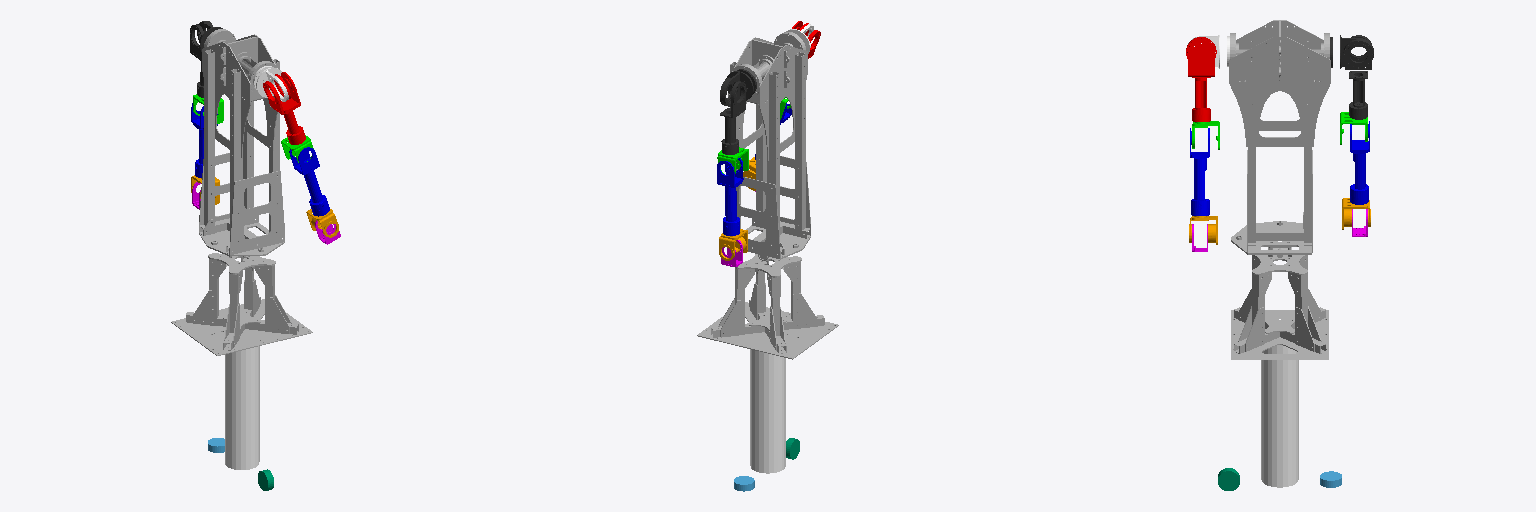
The robot description file, URDF, robot "neurobotboth":
<robot
  name="neurobotboth">
  <link 
    name="base_footprint">
    <visual>
    <origin rpy="0 0 0" xyz="0 0 0"/>
    <geometry>
       <box size="0.05 0.05 0.001"/>
    </geometry>
    <material name="TransparentGreen"/>
    </visual>
  </link>
  <link
    name="base_leg">
    <inertial>
      <origin
        xyz="0 -1.11022302462516E-16 0.2335"
        rpy="0 0 0" />
      <mass
        value="4.43804940190996" />
      <inertia
        ixx="0.0840137545279562"
        ixy="0"
        ixz="-5.53246823430371E-34"
        iyy="0.0840137545279562"
        iyz="1.8876145408187E-34"
        izz="0.00671254972038881" />
    </inertial>
    <visual>
      <origin
        xyz="0 0 0"
        rpy="0 0 0" />
      <geometry>
        <mesh
          filename="package://neurobotboth/meshes/base_leg.stl" />
      </geometry>
      <material
        name="">
        <color
          rgba="1 1 1 1" />
      </material>
    </visual>
    <collision>
      <origin
        xyz="0 0 0"
        rpy="0 0 0" />
      <geometry>
        <mesh
          filename="package://neurobotboth/meshes/base_leg.stl" />
      </geometry>
    </collision>
  </link>
  <joint name="joint_footprint" type="fixed">
    <origin rpy="0 0 0" xyz="0 0 0"/>
    <parent link="base_footprint"/>
    <child link="base_leg"/>
  </joint>
  <link
    name="base_link">
    <inertial>
      <origin
        xyz="-0.00215359092121389 -0.000793224055706809 0.502026253045581"
        rpy="0 0 0" />
      <mass
        value="2.59431720777893" />
      <inertia
        ixx="0.3523313561318"
        ixy="0.000539614748826474"
        ixz="0.00816862739544269"
        iyy="0.351242034325023"
        iyz="-0.00125197561514708"
        izz="0.0345525607669928" />
    </inertial>
    <visual>
      <origin
        xyz="0 0 0"
        rpy="0 0 0" />
      <geometry>
        <mesh
          filename="package://neurobotboth/meshes/base_link.stl" />
      </geometry>
      <material
        name="">
        <color
          rgba="0.752941176470588 0.752941176470588 0.752941176470588 1" />
      </material>
    </visual>
    <collision>
      <origin
        xyz="0 0 0"
        rpy="0 0 0" />
      <geometry>
        <mesh
          filename="package://neurobotboth/meshes/base_link.stl" />
      </geometry>
    </collision>
  </link>
  <joint
    name="joint_base"
    type="fixed">
    <origin
      xyz="-0.0056343 4.8341E-05 0.467"
      rpy="0 0 0" />
    <parent
      link="base_leg" />
    <child
      link="base_link" />
    <axis
      xyz="0 0 0" />
  </joint>
  <link
    name="right_arm_link_0">
  </link>
  <joint
    name="right_arm_joint_0"
    type="fixed">
    <origin
      xyz="0.0056343 -0.14605 0.919"
      rpy="1.5708 0.30972 -3.1416" />
    <parent
      link="base_link" />
    <child
      link="right_arm_link_0" />
    <axis
      xyz="0 0 0" />
  </joint>
  <link
    name="right_arm_link_1">
    <inertial>
      <origin
        xyz="-0.000327200298236963 -1.66533453693773E-16 -0.0359628362808107"
        rpy="0 0 0" />
      <mass
        value="0.107035798022397" />
      <inertia
        ixx="0.000188785968780782"
        ixy="-7.68864379368039E-21"
        ixz="-1.68236451485131E-06"
        iyy="0.000157075498484323"
        iyz="-2.07212052166984E-19"
        izz="0.000125761271549389" />
    </inertial>
    <visual>
      <origin
        xyz="0 0 0"
        rpy="0 0 0" />
      <geometry>
        <mesh
          filename="package://neurobotboth/meshes/right_arm_link_1.stl" />
      </geometry>
      <material
        name="">
        <color
          rgba="1 1 1 1" />
      </material>
    </visual>
    <collision>
      <origin
        xyz="0 0 0"
        rpy="0 0 0" />
      <geometry>
        <mesh
          filename="package://neurobotboth/meshes/right_arm_link_1.stl" />
      </geometry>
    </collision>
  </link>
  <joint
    name="right_arm_joint_1"
    type="fixed">
    <origin
      xyz="0 0 -0.001"
      rpy="0 0 0" />
    <parent
      link="right_arm_link_0" />
    <child
      link="right_arm_link_1" />
    <axis
      xyz="0 0 1" />
    <limit
      lower="-1.57"
      upper="1.57"
      effort="2"
      velocity="0.5" />
  </joint>
  <link
    name="right_arm_link_2">
    <inertial>
      <origin
        xyz="0.0650617938997774 -3.74272418668387E-06 0.00884791201131907"
        rpy="0 0 0" />
      <mass
        value="0.255566385563294" />
      <inertia
        ixx="0.00024551385027943"
        ixy="1.05634262378188E-07"
        ixz="1.70511900676993E-05"
        iyy="0.00127080560186476"
        iyz="1.1028518537721E-09"
        izz="0.00126072659055335" />
    </inertial>
    <visual>
      <origin
        xyz="0 0 0"
        rpy="0 0 0" />
      <geometry>
        <mesh
          filename="package://neurobotboth/meshes/right_arm_link_2.stl" />
      </geometry>
      <material
        name="">
        <color
          rgba="1 0 0 1" />
      </material>
    </visual>
    <collision>
      <origin
        xyz="0 0 0"
        rpy="0 0 0" />
      <geometry>
        <mesh
          filename="package://neurobotboth/meshes/right_arm_link_2.stl" />
      </geometry>
    </collision>
  </link>
  <joint
    name="right_arm_joint_2"
    type="fixed">
    <origin
      xyz="0.004 0 -0.084"
      rpy="1.5708 -2.1829E-14 -1.5708" />
    <parent
      link="right_arm_link_1" />
    <child
      link="right_arm_link_2" />
    <axis
      xyz="0 0 -1" />
    <limit
      lower="-0.78"
      upper="0.78"
      effort="2"
      velocity="0.5" />
  </joint>
  <link
    name="right_arm_link_3">
    <inertial>
      <origin
        xyz="0.0153020226123044 -5.81423797996194E-13 -0.0262980249667745"
        rpy="0 0 0" />
      <mass
        value="0.0789715110556532" />
      <inertia
        ixx="7.19666232277633E-05"
        ixy="1.68404549474258E-15"
        ixz="1.68863370887187E-05"
        iyy="0.000116283270534729"
        iyz="-6.41649606133214E-16"
        izz="0.000104168336512131" />
    </inertial>
    <visual>
      <origin
        xyz="0 0 0"
        rpy="0 0 0" />
      <geometry>
        <mesh
          filename="package://neurobotboth/meshes/right_arm_link_3.stl" />
      </geometry>
      <material
        name="">
        <color
          rgba="0 1 0.00392156862745098 1" />
      </material>
    </visual>
    <collision>
      <origin
        xyz="0 0 0"
        rpy="0 0 0" />
      <geometry>
        <mesh
          filename="package://neurobotboth/meshes/right_arm_link_3.stl" />
      </geometry>
    </collision>
  </link>
  <joint
    name="right_arm_joint_3"
    type="fixed">
    <origin
      xyz="0.204 0 0.01"
      rpy="-1.5708 3.8018E-11 1.5708" />
    <parent
      link="right_arm_link_2" />
    <child
      link="right_arm_link_3" />
    <axis
      xyz="0.0048522 0 0.99999" />
    <limit
      lower="-3.14"
      upper="3.14"
      effort="2"
      velocity="0.5" />
  </joint>
  <link
    name="right_arm_link_4">
    <inertial>
      <origin
        xyz="0.110286427763568 -2.47783699109938E-05 0.0247402908898989"
        rpy="0 0 0" />
      <mass
        value="0.1635924370838" />
      <inertia
        ixx="9.17176019284682E-05"
        ixy="3.47472024491752E-07"
        ixz="1.44062358020974E-05"
        iyy="0.000940638096634904"
        iyz="-9.43821184593951E-09"
        izz="0.000935522761596194" />
    </inertial>
    <visual>
      <origin
        xyz="0 0 0"
        rpy="0 0 0" />
      <geometry>
        <mesh
          filename="package://neurobotboth/meshes/right_arm_link_4.stl" />
      </geometry>
      <material
        name="">
        <color
          rgba="0 0 1 1" />
      </material>
    </visual>
    <collision>
      <origin
        xyz="0 0 0"
        rpy="0 0 0" />
      <geometry>
        <mesh
          filename="package://neurobotboth/meshes/right_arm_link_4.stl" />
      </geometry>
    </collision>
  </link>
  <joint
    name="right_arm_joint_4"
    type="fixed">
    <origin
      xyz="0.02 0 -0.051"
      rpy="3.1416 1.5708 0" />
    <parent
      link="right_arm_link_3" />
    <child
      link="right_arm_link_4" />
    <axis
      xyz="0 0 -1" />
    <limit
      lower="-1.57"
      upper="1.57"
      effort="2"
      velocity="0.5" />
  </joint>
  <link
    name="right_arm_link_5">
    <inertial>
      <origin
        xyz="-2.02615701994091E-15 0.0169801683752191 -0.0349097801090397"
        rpy="0 0 0" />
      <mass
        value="0.0980468372542702" />
      <inertia
        ixx="0.000146622459303631"
        ixy="1.29985969140156E-08"
        ixz="-5.66526182695182E-11"
        iyy="9.25528351448713E-05"
        iyz="2.22452497831366E-05"
        izz="0.000108961772352676" />
    </inertial>
    <visual>
      <origin
        xyz="0 0 0"
        rpy="0 0 0" />
      <geometry>
        <mesh
          filename="package://neurobotboth/meshes/right_arm_link_5.stl" />
      </geometry>
      <material
        name="">
        <color
          rgba="1 0.666666666666667 0 1" />
      </material>
    </visual>
    <collision>
      <origin
        xyz="0 0 0"
        rpy="0 0 0" />
      <geometry>
        <mesh
          filename="package://neurobotboth/meshes/right_arm_link_5.stl" />
      </geometry>
    </collision>
  </link>
  <joint
    name="right_arm_joint_5"
    type="fixed">
    <origin
      xyz="0.2275 0 0.022412"
      rpy="-1.5664 -3.7816E-11 1.5708" />
    <parent
      link="right_arm_link_4" />
    <child
      link="right_arm_link_5" />
    <axis
      xyz="0 0 1" />
    <limit
      lower="-3.14"
      upper="3.14"
      effort="2"
      velocity="0.5" />
  </joint>
  <link
    name="right_arm_link_6">
    <inertial>
      <origin
        xyz="0.0287664746286838 -7.08211267408387E-13 0.0186548764386218"
        rpy="0 0 0" />
      <mass
        value="0.0342933650278287" />
      <inertia
        ixx="2.12655468606329E-05"
        ixy="-2.18723494617966E-17"
        ixz="5.76746741176577E-07"
        iyy="2.81264708549031E-05"
        iyz="8.96065566988484E-17"
        izz="2.57654425067357E-05" />
    </inertial>
    <visual>
      <origin
        xyz="0 0 0"
        rpy="0 0 0" />
      <geometry>
        <mesh
          filename="package://neurobotboth/meshes/right_arm_link_6.stl" />
      </geometry>
      <material
        name="">
        <color
          rgba="1 0 1 1" />
      </material>
    </visual>
    <collision>
      <origin
        xyz="0 0 0"
        rpy="0 0 0" />
      <geometry>
        <mesh
          filename="package://neurobotboth/meshes/right_arm_link_6.stl" />
      </geometry>
    </collision>
  </link>
  <joint
    name="right_arm_joint_6"
    type="fixed">
    <origin
      xyz="0 0.017758 -0.055578"
      rpy="-5.1124E-11 1.5664 -1.5708" />
    <parent
      link="right_arm_link_5" />
    <child
      link="right_arm_link_6" />
    <axis
      xyz="0 0 -1" />
    <limit
      lower="-1.57"
      upper="1.57"
      effort="2"
      velocity="0.5" />
  </joint>
  <link
    name="left_arm_link_0">
  </link>
  <joint
    name="left_arm_joint_0"
    type="fixed">
    <origin
      xyz="0.0056343 0.14595 0.917"
      rpy="1.5734 -0.018325 3.0023" />
    <parent
      link="base_link" />
    <child
      link="left_arm_link_0" />
    <axis
      xyz="0 0 0" />
  </joint>
  <link
    name="left_arm_Link_1">
    <inertial>
      <origin
        xyz="0.00466685580630952 -1.11022302462516E-15 0.0356602455160837"
        rpy="0 0 0" />
      <mass
        value="0.107035798022396" />
      <inertia
        ixx="0.000188034571467992"
        ixy="-1.1808830424807E-20"
        ixz="-7.04431263850407E-06"
        iyy="0.000157075498483852"
        iyz="-1.18319914819585E-19"
        izz="0.000126512668861709" />
    </inertial>
    <visual>
      <origin
        xyz="0 0 0"
        rpy="0 0 0" />
      <geometry>
        <mesh
          filename="package://neurobotboth/meshes/left_arm_Link_1.stl" />
      </geometry>
      <material
        name="">
        <color
          rgba="0.250980392156863 0.250980392156863 0.250980392156863 1" />
      </material>
    </visual>
    <collision>
      <origin
        xyz="0 0 0"
        rpy="0 0 0" />
      <geometry>
        <mesh
          filename="package://neurobotboth/meshes/left_arm_Link_1.stl" />
      </geometry>
    </collision>
  </link>
  <joint
    name="left_arm_joint_1"
    type="fixed">
    <origin
      xyz="0 0 0.001"
      rpy="0 0 0" />
    <parent
      link="left_arm_link_0" />
    <child
      link="left_arm_Link_1" />
    <axis
      xyz="0.13878 0 0.99032" />
    <limit
      lower="-1.57"
      upper="1.57"
      effort="2"
      velocity="0.5" />
  </joint>
  <link
    name="left_arm_link_2">
    <inertial>
      <origin
        xyz="0.0788175837647441 -5.95414185977639E-06 0.000165336903578506"
        rpy="0 0 0" />
      <mass
        value="0.160646914181548" />
      <inertia
        ixx="0.000125127504737375"
        ixy="9.24766480165639E-08"
        ixz="-7.06597547048381E-05"
        iyy="0.00102428232334361"
        iyz="9.40786019061417E-09"
        izz="0.00104065620236747" />
    </inertial>
    <visual>
      <origin
        xyz="0 0 0"
        rpy="0 0 0" />
      <geometry>
        <mesh
          filename="package://neurobotboth/meshes/left_arm_link_2.stl" />
      </geometry>
      <material
        name="">
        <color
          rgba="0.250980392156863 0.250980392156863 0.250980392156863 1" />
      </material>
    </visual>
    <collision>
      <origin
        xyz="0 0 0"
        rpy="0 0 0" />
      <geometry>
        <mesh
          filename="package://neurobotboth/meshes/left_arm_link_2.stl" />
      </geometry>
    </collision>
  </link>
  <joint
    name="left_arm_joint_2"
    type="fixed">
    <origin
      xyz="0.015619 0 0.082632"
      rpy="1.4316 -1.5635E-13 -1.5708" />
    <parent
      link="left_arm_Link_1" />
    <child
      link="left_arm_link_2" />
    <axis
      xyz="0 0 -1" />
    <limit
      lower="-0.78"
      upper="0.78"
      effort="2"
      velocity="0.5" />
  </joint>
  <link
    name="left_arm_link_3">
    <inertial>
      <origin
        xyz="0.000486585292986369 0.0153020226121923 -0.0262935230028779"
        rpy="0 0 0" />
      <mass
        value="0.0789715110556529" />
      <inertia
        ixx="0.0001162791229741"
        ixy="-3.12443359916851E-07"
        ixz="2.24120996575773E-07"
        iyy="7.19666232277628E-05"
        iyz="1.68834463134955E-05"
        izz="0.000104172484072759" />
    </inertial>
    <visual>
      <origin
        xyz="0 0 0"
        rpy="0 0 0" />
      <geometry>
        <mesh
          filename="package://neurobotboth/meshes/left_arm_link_3.stl" />
      </geometry>
      <material
        name="">
        <color
          rgba="0 1 0.00392156862745098 1" />
      </material>
    </visual>
    <collision>
      <origin
        xyz="0 0 0"
        rpy="0 0 0" />
      <geometry>
        <mesh
          filename="package://neurobotboth/meshes/left_arm_link_3.stl" />
      </geometry>
    </collision>
  </link>
  <joint
    name="left_arm_joint_3"
    type="fixed">
    <origin
      xyz="0.204 0 0.01"
      rpy="-3.1416 1.5523 1.2227E-10" />
    <parent
      link="left_arm_link_2" />
    <child
      link="left_arm_link_3" />
    <axis
      xyz="-0.018503 0 0.99983" />
    <limit
      lower="-3.14"
      upper="3.14"
      effort="2"
      velocity="0.5" />
  </joint>
  <link
    name="left_arm_link_4">
    <inertial>
      <origin
        xyz="0.110286427736446 -2.47783948261193E-05 -0.0142597091140066"
        rpy="0 0 0" />
      <mass
        value="0.163592437060337" />
      <inertia
        ixx="9.17176023887561E-05"
        ixy="3.47471633503439E-07"
        ixz="1.44062356695314E-05"
        iyy="0.000940638096231336"
        iyz="-9.43767718859236E-09"
        izz="0.000935522761509331" />
    </inertial>
    <visual>
      <origin
        xyz="0 0 0"
        rpy="0 0 0" />
      <geometry>
        <mesh
          filename="package://neurobotboth/meshes/left_arm_link_4.stl" />
      </geometry>
      <material
        name="">
        <color
          rgba="0 0 1 1" />
      </material>
    </visual>
    <collision>
      <origin
        xyz="0 0 0"
        rpy="0 0 0" />
      <geometry>
        <mesh
          filename="package://neurobotboth/meshes/left_arm_link_4.stl" />
      </geometry>
    </collision>
  </link>
  <joint
    name="left_arm_joint_4"
    type="fixed">
    <origin
      xyz="0.00094364 -0.019 -0.050991"
      rpy="1.5708 1.5523 3.715E-14" />
    <parent
      link="left_arm_link_3" />
    <child
      link="left_arm_link_4" />
    <axis
      xyz="0 0 1" />
    <limit
      lower="-1.57"
      upper="1.57"
      effort="2"
      velocity="0.5" />
  </joint>
  <link
    name="left_arm_link_5">
    <inertial>
      <origin
        xyz="-1.74860126378462E-15 0.0171321551873778 -0.0353354435015221"
        rpy="0 0 0" />
      <mass
        value="0.0980468372542703" />
      <inertia
        ixx="0.000146622459303631"
        ixy="1.29987203700121E-08"
        ixz="-2.26275918308371E-18"
        iyy="9.23592447263128E-05"
        iyz="2.21728899253533E-05"
        izz="0.000109155362771234" />
    </inertial>
    <visual>
      <origin
        xyz="0 0 0"
        rpy="0 0 0" />
      <geometry>
        <mesh
          filename="package://neurobotboth/meshes/left_arm_link_5.stl" />
      </geometry>
      <material
        name="">
        <color
          rgba="1 0.666666666666667 0 1" />
      </material>
    </visual>
    <collision>
      <origin
        xyz="0 0 0"
        rpy="0 0 0" />
      <geometry>
        <mesh
          filename="package://neurobotboth/meshes/left_arm_link_5.stl" />
      </geometry>
    </collision>
  </link>
  <joint
    name="left_arm_joint_5"
    type="fixed">
    <origin
      xyz="0.227 0 -0.016588"
      rpy="-1.5708 1.4988E-14 1.5708" />
    <parent
      link="left_arm_link_4" />
    <child
      link="left_arm_link_5" />
    <axis
      xyz="0 0 1" />
    <limit
      lower="-3.14"
      upper="3.14"
      effort="2"
      velocity="0.5" />
  </joint>
  <link
    name="left_arm_link_6">
    <inertial>
      <origin
        xyz="0.028766474628684 0.00258890688673372 0.0184743599638002"
        rpy="0 0 0" />
      <mass
        value="0.0342933650278285" />
      <inertia
        ixx="2.1265546860633E-05"
        ixy="8.00403913178448E-08"
        ixz="5.7116577209727E-07"
        iyy="2.80809983048714E-05"
        iyz="-3.24490719253941E-07"
        izz="2.58109150567672E-05" />
    </inertial>
    <visual>
      <origin
        xyz="0 0 0"
        rpy="0 0 0" />
      <geometry>
        <mesh
          filename="package://neurobotboth/meshes/left_arm_link_6.stl" />
      </geometry>
      <material
        name="">
        <color
          rgba="1 0 1 1" />
      </material>
    </visual>
    <collision>
      <origin
        xyz="0 0 0"
        rpy="0 0 0" />
      <geometry>
        <mesh
          filename="package://neurobotboth/meshes/left_arm_link_6.stl" />
      </geometry>
    </collision>
  </link>
  <joint
    name="left_arm_joint_6"
    type="fixed">
    <origin
      xyz="0 0.018 -0.056"
      rpy="1.71 1.5708 0" />
    <parent
      link="left_arm_link_5" />
    <child
      link="left_arm_link_6" />
    <axis
      xyz="0 0.13878 0.99032" />
    <limit
      lower="-1.57"
      upper="1.57"
      effort="2"
      velocity="0.5" />
  </joint>
  <link name="base_l_wheel_link">
    <inertial>
      <origin xyz="0 0 0"/>
      <mass value="0.01" />
      <inertia ixx="1.0" ixy="0.0" ixz="0.0"
        iyy="1.0" iyz="0.0" izz="1.0" />
    </inertial>

    <visual>
      <origin xyz="0 0 0" rpy="0 1.5707 1.5707" />
      <geometry>
        <cylinder radius="0.033" length = "0.023"/>
      </geometry>
    </visual>

    <collision>
      <origin xyz="0 0 0" rpy="0 1.5707 1.5707" />
      <geometry>
        <cylinder radius="0.033" length = "0.023"/>
      </geometry>
    </collision>
  </link>
  <joint name="base_l_wheel_joint" type="fixed">
    <origin xyz="0 0.15 0" rpy="1.57 0 0"/>
    <parent link="base_leg"/>
    <child link="base_l_wheel_link"/>
    <axis xyz="0 0 1"/>
    <limit
      lower="-1.57"
      upper="1.57"
      effort="2"
      velocity="0.5" />
  </joint>

  <link name="base_r_wheel_link">
    <inertial>
      <origin xyz="0 0 0"/>
      <mass value="0.01" />
      <inertia ixx="1.0" ixy="0.0" ixz="0.0"
        iyy="1.0" iyz="0.0" izz="1.0" />
    </inertial>

    <visual>
      <origin xyz="0 0 0" rpy="1.5707 0 1.5707 " />
      <geometry>
        <cylinder radius="0.033" length = "0.023"/>
      </geometry>
    </visual>

    <collision>
      <origin xyz="0 0 0" rpy="0 1.5707 1.5707" />
      <geometry>
        <cylinder radius="0.033" length = "0.023"/>
      </geometry>
    </collision>
  </link>

  <joint name="base_r_wheel_joint" type="fixed">
    <origin xyz="0 -0.15 0" rpy="-1.57 0 0"/>
    <parent link="base_leg"/>
    <child link="base_r_wheel_link"/>
    <axis xyz="0 1 0"/>
    <limit
      lower="-1.57"
      upper="1.57"
      effort="2"
      velocity="0.5" />
  </joint>
</robot>

--- What the picture shows (computed from the rendered views, not written in the file) ---
3 views of the same robot in one strip: view 1: azimuth 30°, elevation 25°; view 2: azimuth 150°, elevation 25°; view 3: azimuth 270°, elevation 25° (orthographic).
Robot: neurobotboth — 19 links, 18 joints (18 fixed); root link base_footprint; default pose: all joints at 0.
Visible links, largest first — view 1: base_link, base_leg, right_arm_link_2, right_arm_link_4, right_arm_link_1; view 2: base_link, base_leg, left_arm_link_4, left_arm_link_2, left_arm_Link_1, left_arm_link_5; view 3: base_link, base_leg, right_arm_link_2, left_arm_link_2, left_arm_link_4, right_arm_link_4.
Link boxes in pixels (<box>): base_link: <box>171,29,312,355</box>; base_leg: <box>225,346,259,469</box>; right_arm_link_2: <box>263,72,305,144</box>; right_arm_link_4: <box>289,147,329,216</box>; right_arm_link_1: <box>253,66,288,101</box>; base_link: <box>697,32,838,359</box>; base_leg: <box>750,349,785,473</box>; left_arm_link_4: <box>717,158,743,235</box>; left_arm_link_2: <box>720,77,746,154</box>; left_arm_Link_1: <box>722,69,756,106</box>; left_arm_link_5: <box>719,229,747,260</box>; base_link: <box>1229,20,1330,359</box>; base_leg: <box>1261,345,1298,487</box>; right_arm_link_2: <box>1186,37,1216,121</box>; left_arm_link_2: <box>1343,35,1373,119</box>; left_arm_link_4: <box>1350,121,1369,204</box>; right_arm_link_4: <box>1190,128,1209,215</box>.
Bounding box of the posed robot: 0.3846 × 0.5519 × 1.49 m (x, y, z).
14 mesh visuals loaded from 14 distinct referenced files (14 binary STL).